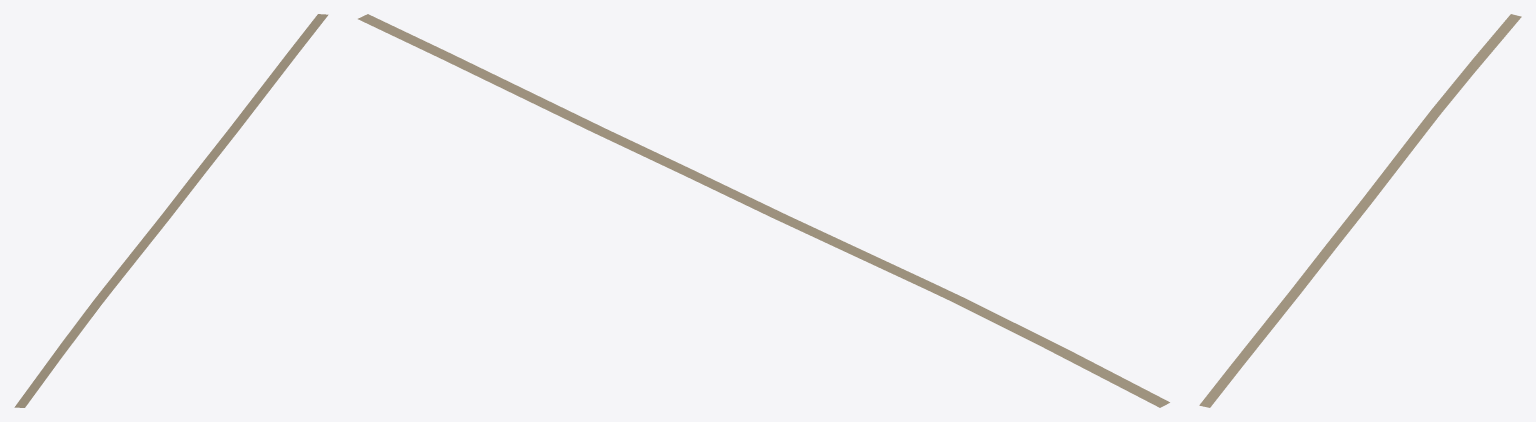
File: farm_2_2_track.glb
The picture shows the model from 3 angles, left to right: view 1: azimuth 90°, elevation 25°; view 2: azimuth 150°, elevation 25°; view 3: azimuth 270°, elevation 25°; orthographic projection. The views are drawn at different scales.
Visible parts, largest first — view 1: geometry_0; view 2: geometry_0; view 3: geometry_0.
Boxes of the visible parts, x1,y1,x2,y2 form: geometry_0: (14,14,328,407); geometry_0: (358,14,1169,407); geometry_0: (1199,14,1521,407).
Bounding box in the file's own units: 267 × 2.27 × 91.38.
